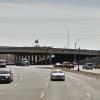Car: (46, 66, 70, 82)
